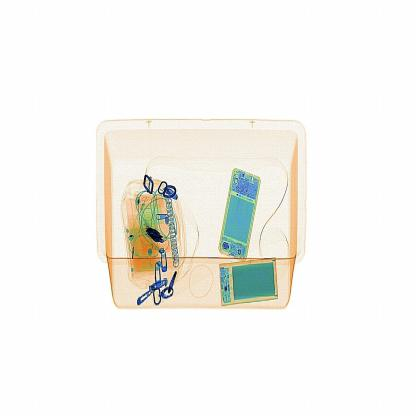scissors: (143, 223, 171, 249)
